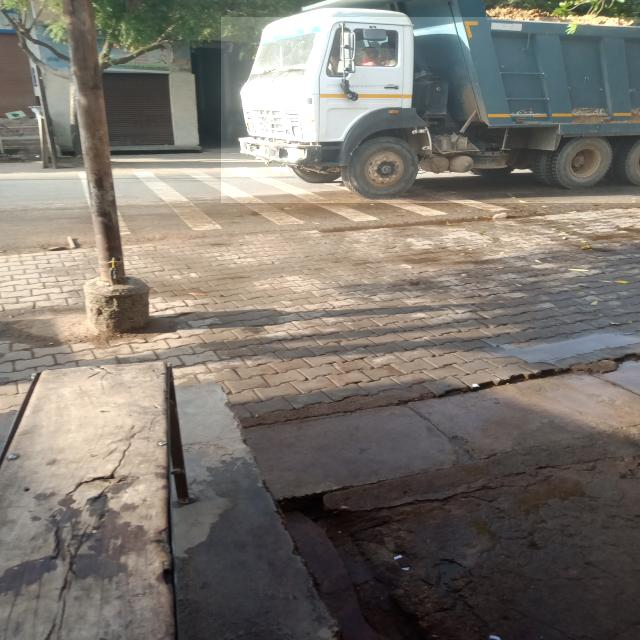Truck: (221, 17, 640, 203)
